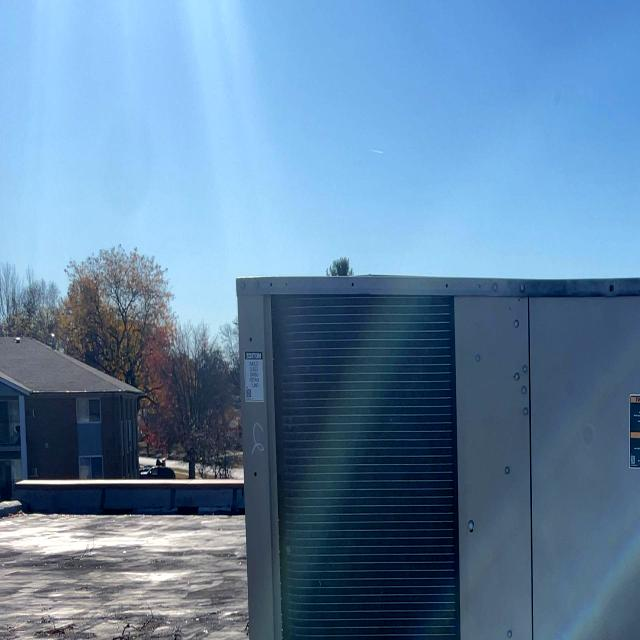RTU: (230, 264, 640, 640)
